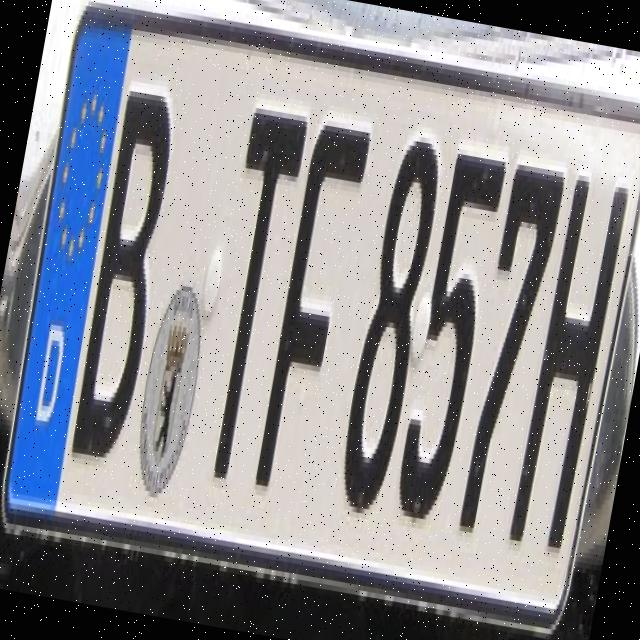Allemagne: (1, 22, 136, 509)
EU: (1, 10, 640, 627)
